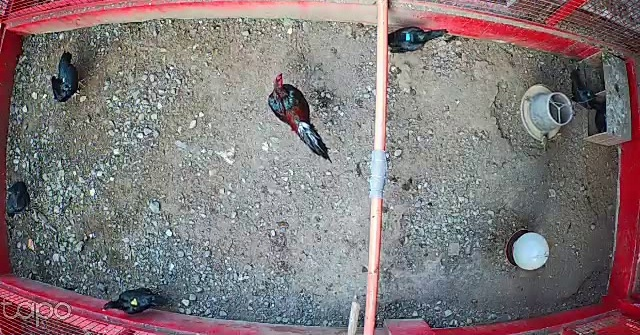Chicken: (101, 281, 170, 321), (47, 48, 92, 106), (386, 18, 451, 55), (565, 67, 606, 113), (0, 181, 35, 223)
Rooster: (268, 69, 338, 167), (404, 32, 414, 44)
Saddle_Color_Yellow: (130, 296, 141, 306)
